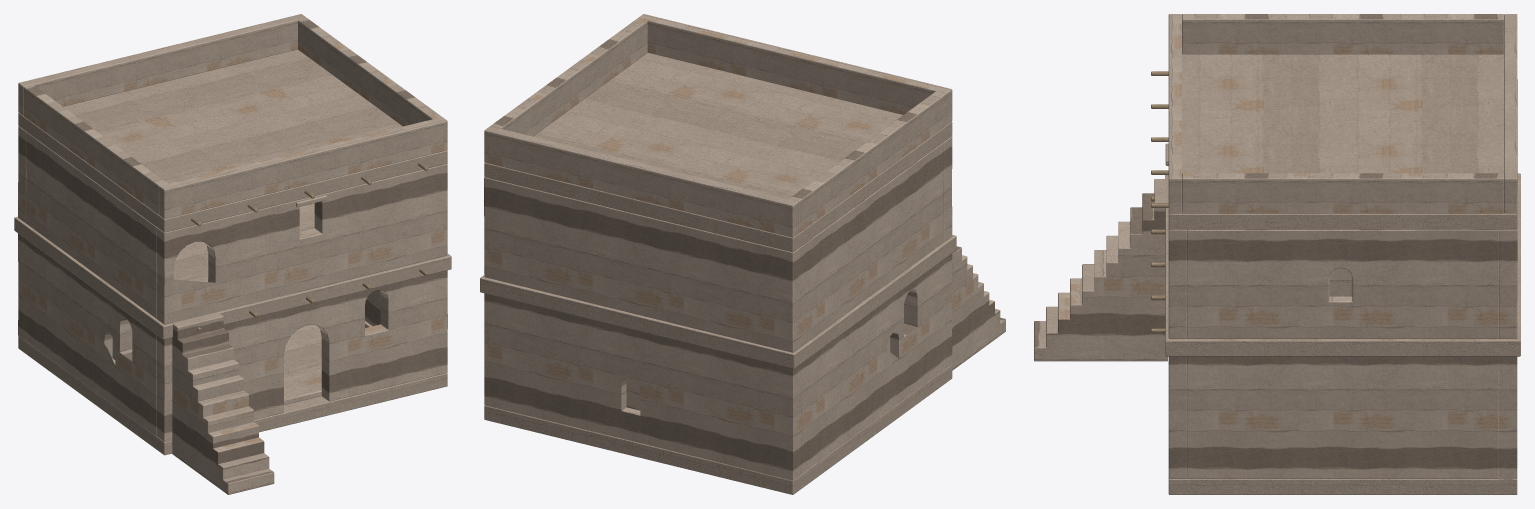
File: house_1.glb
The picture shows the model from 3 angles, left to right: view 1: azimuth 30°, elevation 25°; view 2: azimuth 150°, elevation 25°; view 3: azimuth 270°, elevation 25°; orthographic projection. The views are drawn at different scales.
Parts seen in each view (by area): view 1: house; view 2: house; view 3: house.
Boxes of the visible parts, x1,y1,x2,y2 form: house: [14, 14, 451, 494]; house: [480, 14, 1005, 494]; house: [1034, 14, 1520, 494].
Size of the model in its own units: 9.01 by 7.93 by 11.05.
3 materials, 3 textured.
